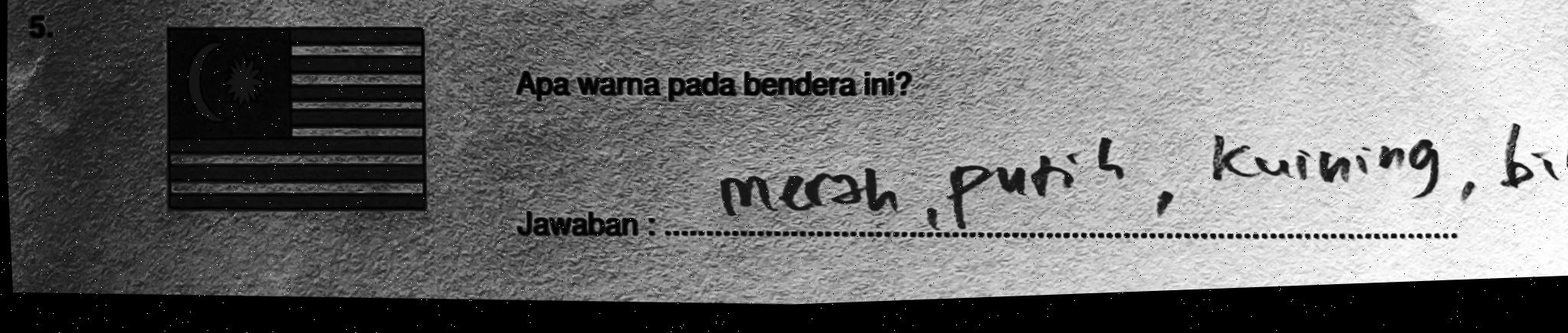jawaban: (941, 131, 1133, 231), (1208, 132, 1439, 203), (717, 162, 899, 217)
